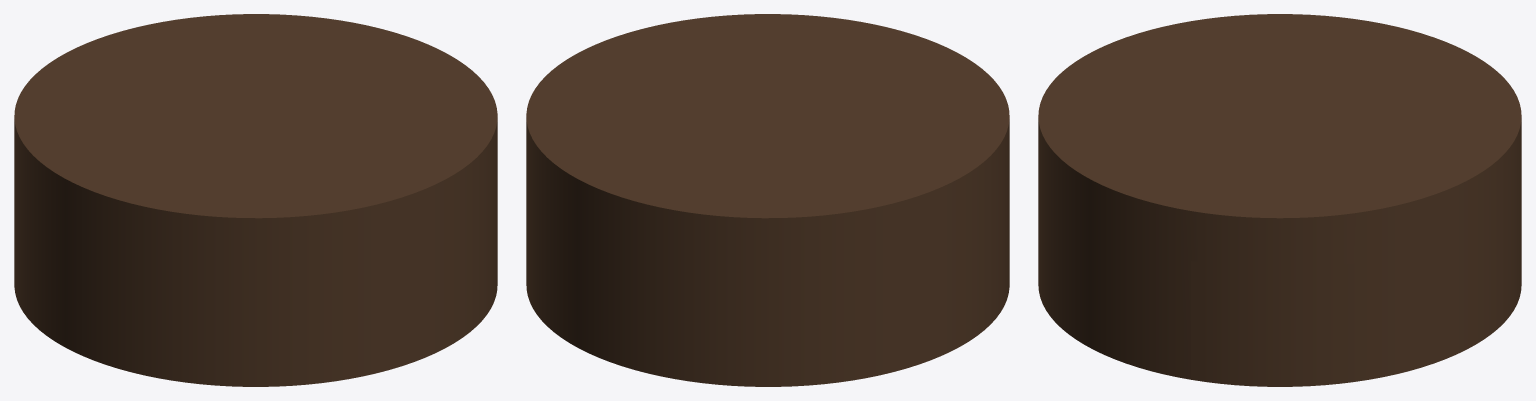
File: Garderobe.fbx
3 views of the same model, side by side, from view 1: azimuth 30°, elevation 25°; view 2: azimuth 150°, elevation 25°; view 3: azimuth 270°, elevation 25° (orthographic).
Parts seen in each view (by area): view 1: Zylinder.001, Zylinder.004; view 2: Zylinder.001, Zylinder.004; view 3: Zylinder.004, Zylinder.001, Zylinder.002.
Part boxes in pixels (x1,y1,x2,y2): Zylinder.001: (14, 117, 497, 386); Zylinder.004: (14, 14, 497, 218); Zylinder.001: (526, 117, 1009, 386); Zylinder.004: (526, 14, 1009, 218); Zylinder.004: (1038, 14, 1521, 218); Zylinder.001: (1038, 118, 1521, 381); Zylinder.002: (1191, 261, 1354, 386).
Bounding box in the file's own units: 960 × 373 × 960.
7 materials, 5 textured.
